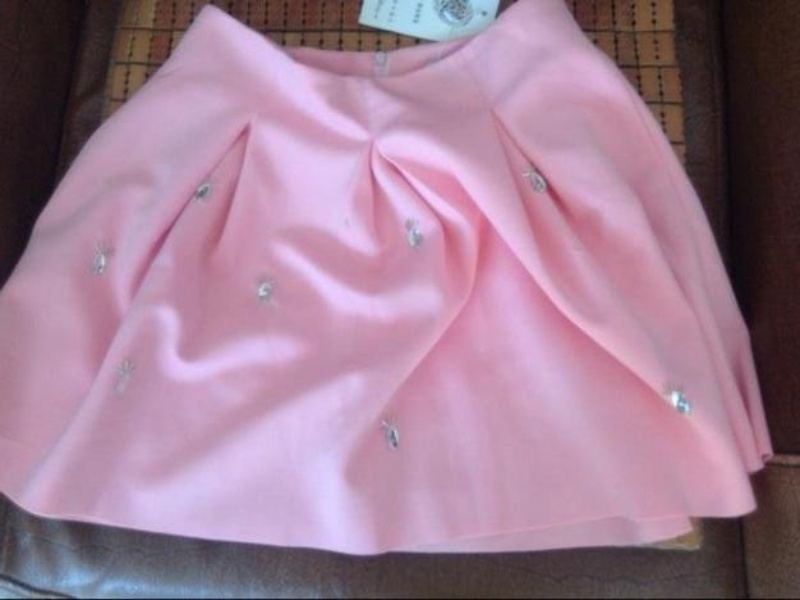skirt: (0, 0, 774, 556)
